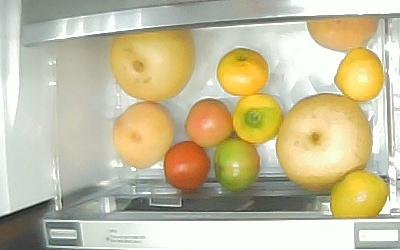peach: (112, 102, 174, 170), (306, 16, 378, 53)
pear: (275, 92, 372, 189), (109, 29, 194, 101)
tangerine: (333, 47, 384, 102), (330, 169, 386, 218), (217, 48, 269, 96), (233, 94, 282, 144)
tomato: (214, 137, 259, 192), (163, 140, 210, 192), (185, 98, 232, 148)
